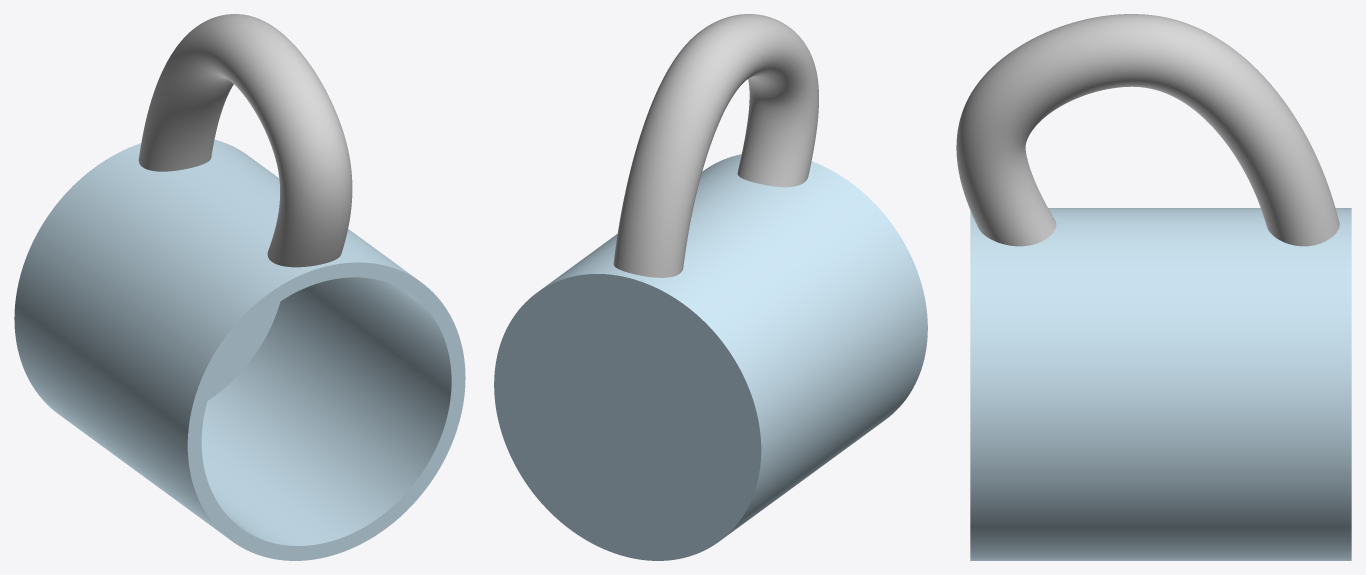
3 renders of one model, left to right at view 1: azimuth 30°, elevation 25°; view 2: azimuth 150°, elevation 25°; view 3: azimuth 270°, elevation 25°, orthographic. The views are drawn at different scales.
Visible parts, largest first — view 1: mesh0_meshnode_0, mesh3_meshnode_3, mesh6_meshnode_6, mesh1_meshnode_1, mesh4_meshnode_4; view 2: mesh2_meshnode_2, mesh0_meshnode_0, mesh6_meshnode_6; view 3: mesh0_meshnode_0, mesh6_meshnode_6.
Part boxes in pixels (box(x1,y1,x2,y2)): mesh0_meshnode_0: box(14, 139, 417, 537); mesh3_meshnode_3: box(201, 277, 451, 545); mesh6_meshnode_6: box(138, 14, 352, 267); mesh1_meshnode_1: box(187, 262, 465, 560); mesh4_meshnode_4: box(207, 301, 280, 400); mesh2_meshnode_2: box(494, 274, 761, 560); mesh0_meshnode_0: box(540, 154, 927, 537); mesh6_meshnode_6: box(613, 14, 818, 277); mesh0_meshnode_0: box(970, 208, 1351, 560); mesh6_meshnode_6: box(956, 14, 1339, 246).
Size of the model in its own units: 0.05 by 0.0823 by 0.056.
